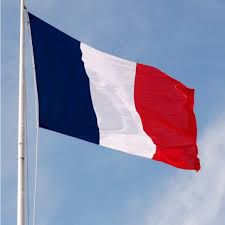French Flag: (28, 12, 202, 175)
